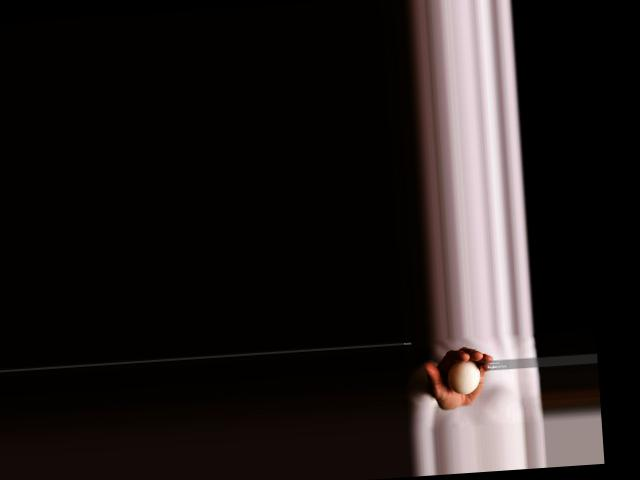egg: (446, 358, 481, 394)
